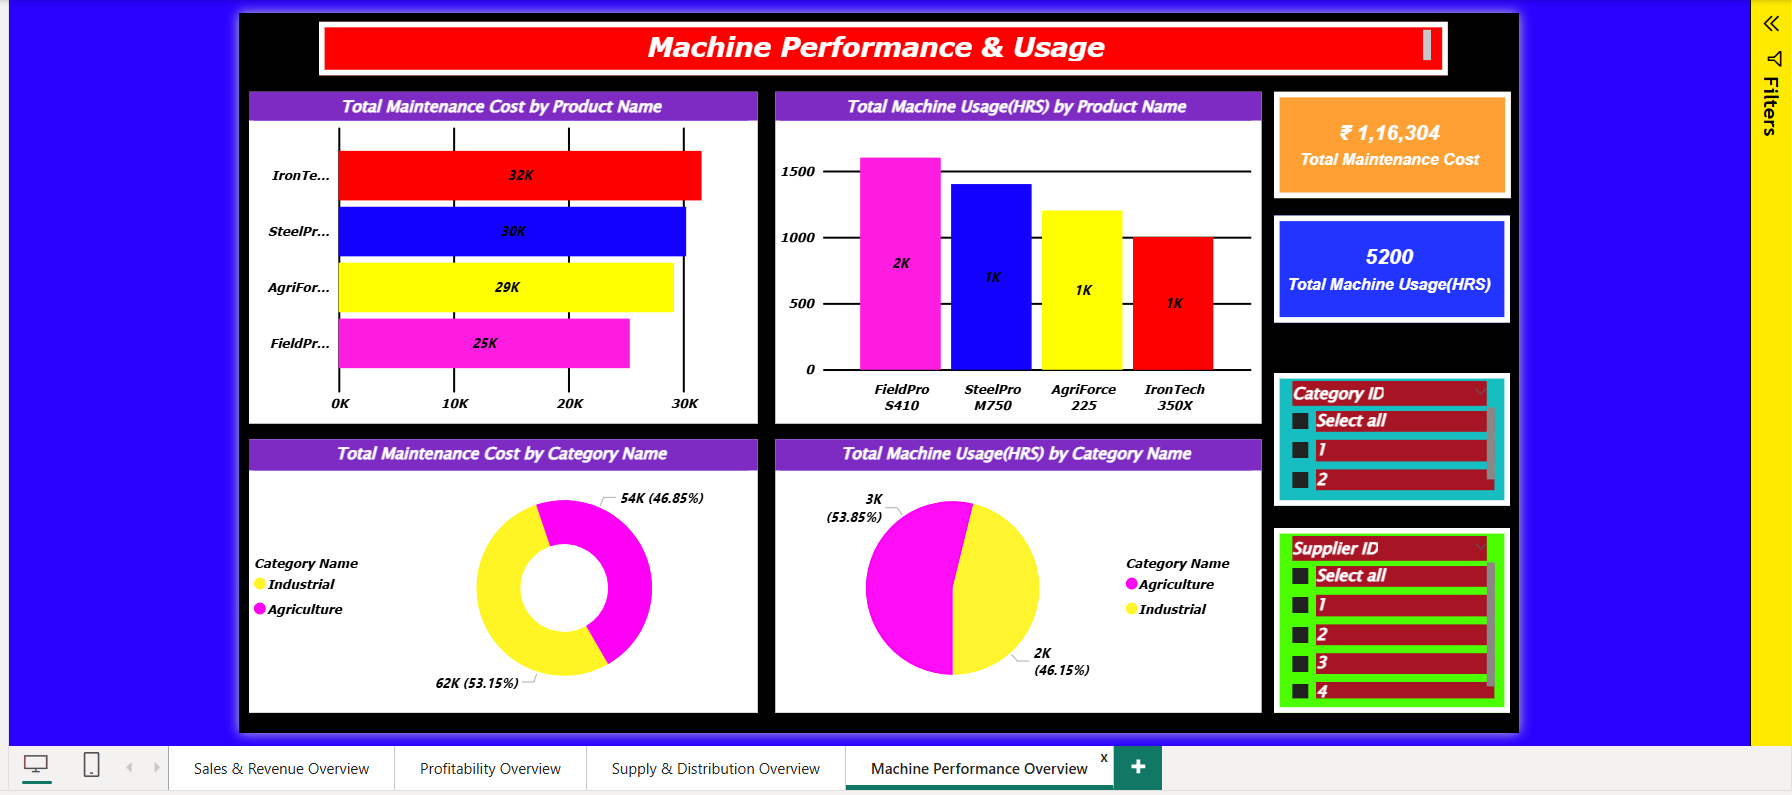

This screenshot's page, from the dashboard's own definition file:
{"tool":"powerbi","page":{"name":"Machine Performance Overview","canvas":[1280,720],"ordinal":3},"visuals":[{"type":"pieChart","title":"Total Machine Usage(HRS) by Category Name","fields":{"Category":["Category_Metrics.Category Name"],"Y":["Sum(Zone_Overview.Machine Usage(HRS))"]},"box":[536.9,425.9,486.2,273.9],"z":0},{"type":"clusteredColumnChart","title":"Total Maintenance Cost by Machine Usage(HRS)","fields":{"Category":["Inventory_Details.Product Name"],"Y":["Sum(Zone_Overview.Machine Usage(HRS))"]},"box":[536.9,78.4,486.2,331.8],"z":1000},{"type":"card","fields":{"Values":["Sum(Zone_Overview.Machine Usage(HRS))"]},"box":[1035,202.5,236.2,107.5],"z":2000},{"type":"card","fields":{"Values":["Sum(Zone_Overview.Maintenance Cost)"]},"box":[1035.1,78.4,236.5,106.2],"z":3000},{"type":"textbox","box":[80,8.8,1128.8,53.8],"z":6000},{"type":"slicer","fields":{"Values":["Category_Metrics.Category ID"]},"box":[1035,360,236.2,132.5],"z":7000},{"type":"slicer","fields":{"Values":["Suppliers_Profile.Supplier ID"]},"box":[1035,515,236.2,185],"z":8000},{"type":"donutChart","title":"Total Maintenance Cost by Category Name","fields":{"Category":["Category_Metrics.Category Name"],"Y":["Sum(Zone_Overview.Maintenance Cost)"]},"box":[9.7,425.9,509.1,273.9],"z":9000},{"type":"clusteredBarChart","title":"Total Maintenance Cost by Product Name","fields":{"Category":["Inventory_Details.Product Name"],"Y":["Sum(Zone_Overview.Maintenance Cost)"]},"box":[9.7,78.4,509.1,331.8],"z":10000}]}

Visuals, with their boxes on the page's 1280x720 design canvas (x1, y1, x2, y2). These are canvas units, not pixel positions in the 1792x795 screenshot, which may show the page scaled, cropped or inside an application window:
"Total Machine Usage(HRS) by Category Name" pieChart: rect(537, 426, 1023, 700)
"Total Maintenance Cost by Machine Usage(HRS)" clusteredColumnChart: rect(537, 78, 1023, 410)
card - Sum(Zone_Overview.Machine Usage(HRS)): rect(1035, 202, 1271, 310)
card - Sum(Zone_Overview.Maintenance Cost): rect(1035, 78, 1272, 185)
textbox: rect(80, 9, 1209, 63)
slicer - Category_Metrics.Category ID: rect(1035, 360, 1271, 492)
slicer - Suppliers_Profile.Supplier ID: rect(1035, 515, 1271, 700)
"Total Maintenance Cost by Category Name" donutChart: rect(10, 426, 519, 700)
"Total Maintenance Cost by Product Name" clusteredBarChart: rect(10, 78, 519, 410)
